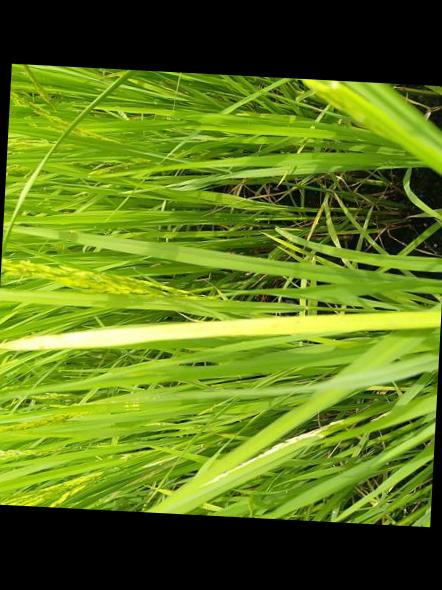Leaf Blight: (0, 320, 234, 350)
